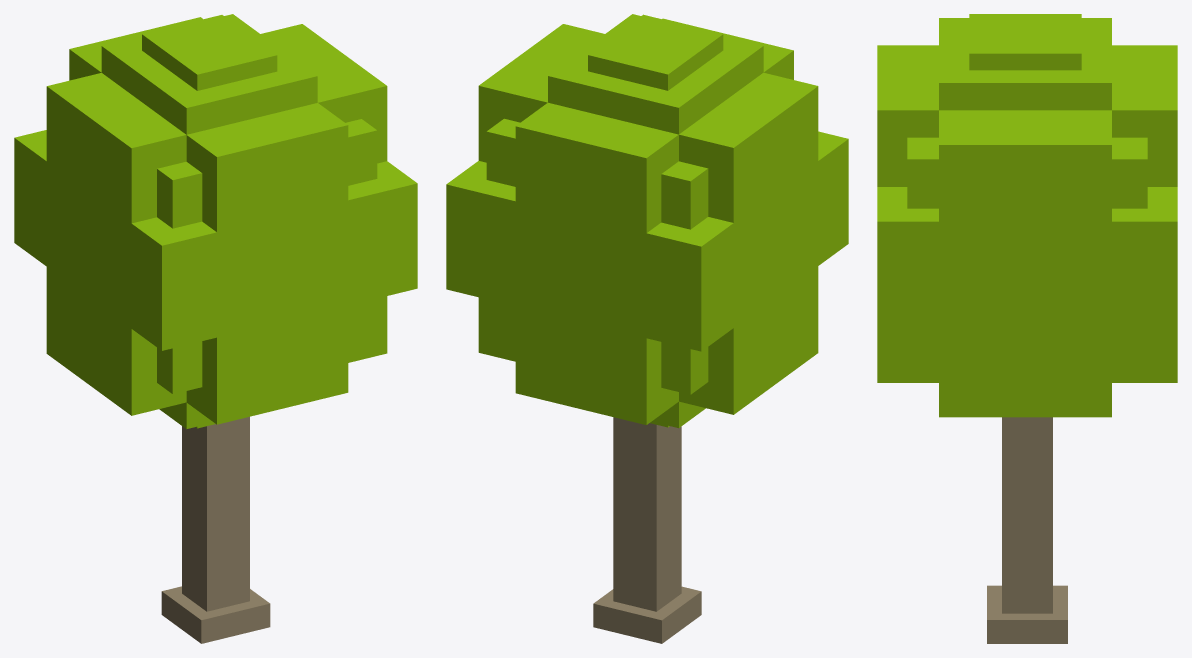
Rendered from tree_boxy_5.fbx.
3 views of the same model, side by side, from view 1: azimuth 30°, elevation 25°; view 2: azimuth 150°, elevation 25°; view 3: azimuth 270°, elevation 25° (orthographic). The views are drawn at different scales.
Parts seen in each view (by area): view 1: tree_boxy_5; view 2: tree_boxy_5; view 3: tree_boxy_5.
Part boxes in pixels (x1=…): tree_boxy_5: x1=14, y1=14, x2=417, y2=643; tree_boxy_5: x1=446, y1=14, x2=848, y2=643; tree_boxy_5: x1=877, y1=14, x2=1177, y2=643.
Bounding box in the file's own units: 92.48 × 200 × 92.48.
